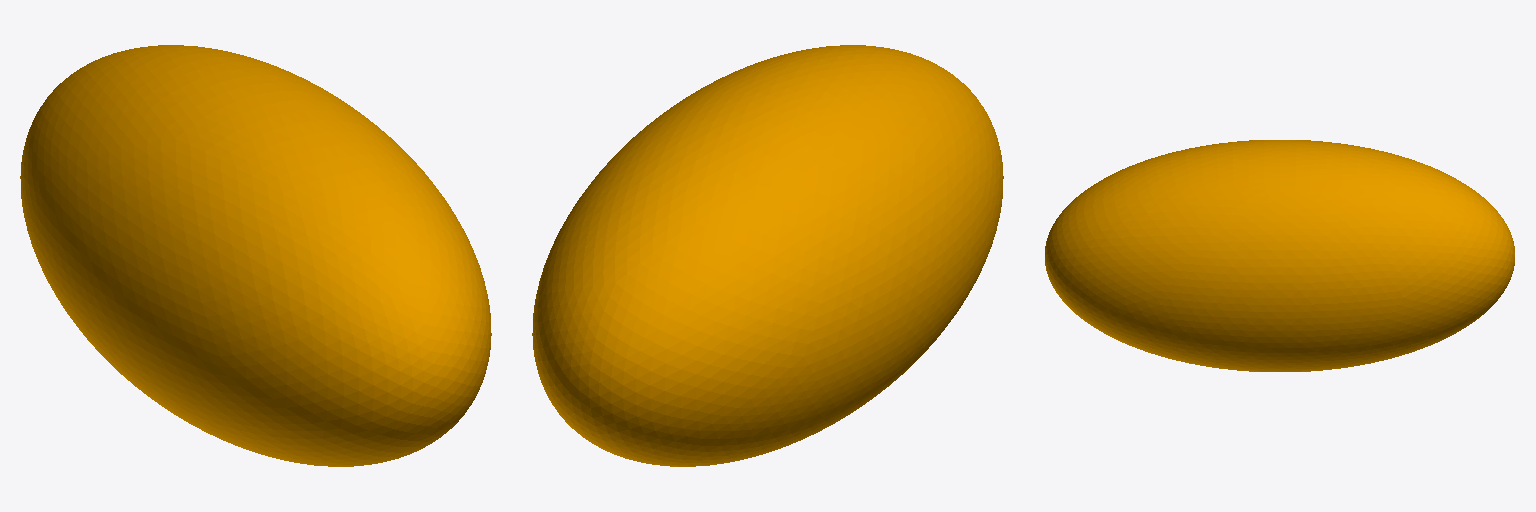
URDF robot description (mesh_object):
<?xml version="1.0" ?>
            <robot name="mesh_object">
            <link name="base">
                <visual>
                    <geometry>
                        <mesh filename="4.obj" scale="0.1 0.1 0.1"/>
                    </geometry>
                </visual>
                <collision>
                    <geometry>
                        <mesh filename="4.obj" scale="0.1 0.1 0.1"/>
                    </geometry>
                </collision>
                <inertial>
                    <origin xyz="0 0 0.0247565855" rpy="0 0 0"/>
                    <mass value="0.5"/>
                    <inertia ixx="0.01" iyy="0.01" izz="0.01" ixy="0" ixz="0" iyz="0"/>
                </inertial>
            </link>
            </robot>
        

--- Render facts (derived) ---
The picture shows the robot from 3 angles, left to right: view 1: azimuth 30°, elevation 25°; view 2: azimuth 150°, elevation 25°; view 3: azimuth 270°, elevation 25°; orthographic projection.
Robot: mesh_object — 1 links, 0 joints (none); root link base; default pose: every joint at zero.
Visible links, largest first — view 1: base; view 2: base; view 3: base.
Link boxes in pixels (<box>): base: <box>20,45,491,466</box>; base: <box>532,45,1003,466</box>; base: <box>1045,140,1514,371</box>.
Bounding box of the posed robot: 0.0493 × 0.1 × 0.0495 m (x, y, z).
Meshes: 1 distinct files referenced, 1 mesh visuals loaded (1 OBJ).
